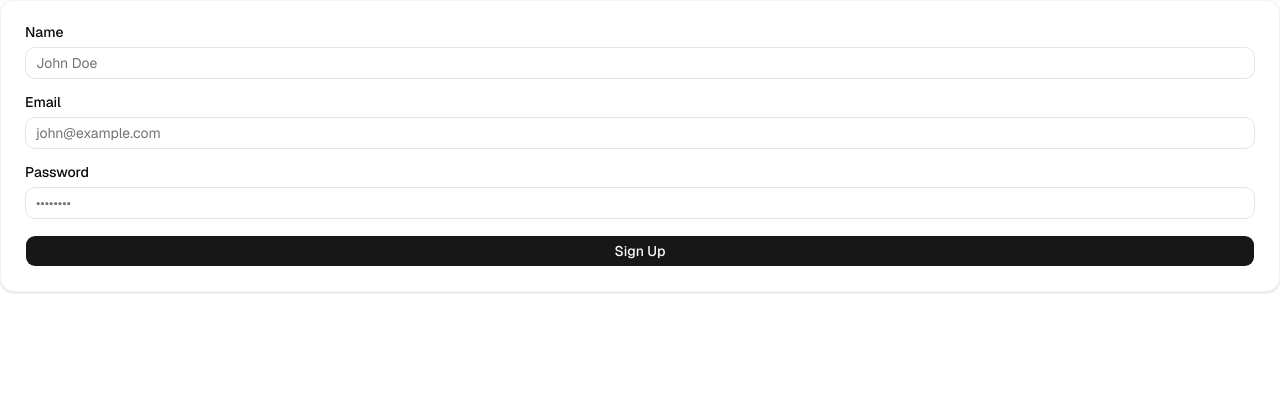
Test: Auth Flow Integration › RegisterForm › shows validation errors for invalid inputs
Click the button "Sign Up" at (640, 251), box [25,235,1255,267]
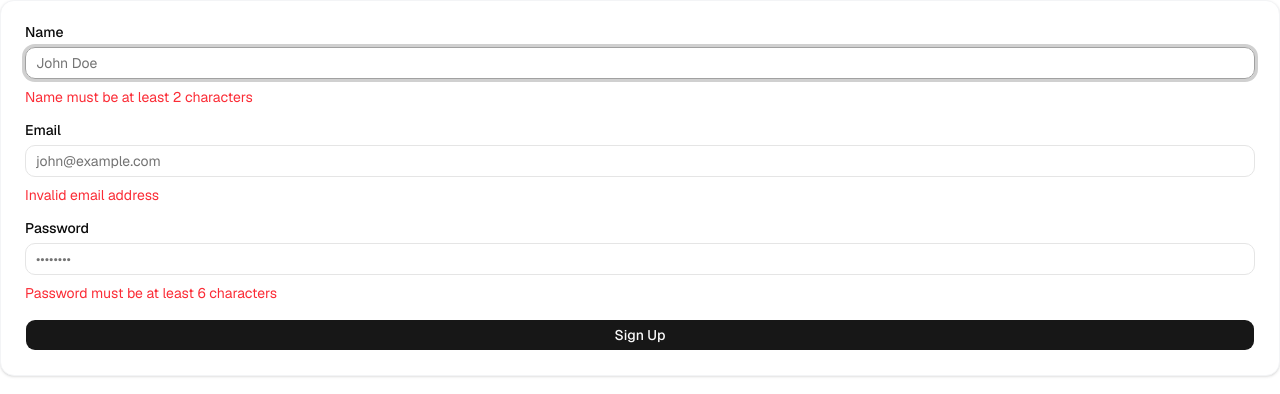
Check: the text "Name must be at least 2 characters" is shown, box [25,88,253,106]
Check: the text "Invalid email address" is shown, box [25,186,159,204]
Check: the text "Password must be at least 6 characters" is shown, box [25,284,277,302]
